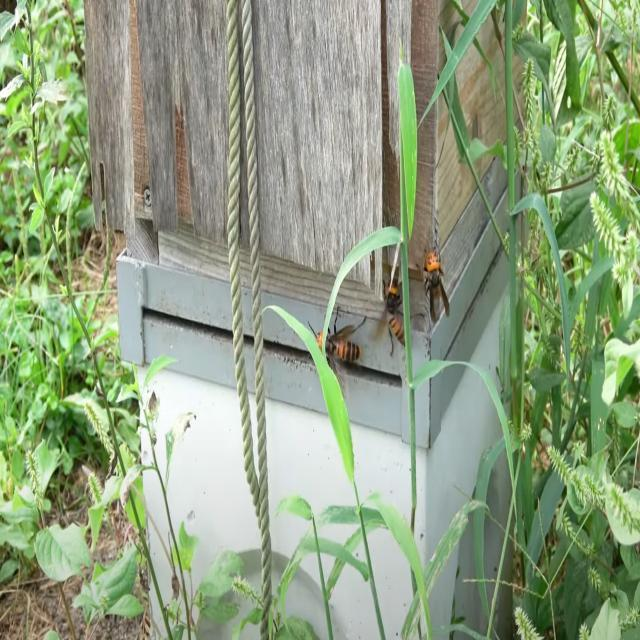Wasp: (300, 312, 366, 364), (419, 242, 453, 322), (379, 263, 405, 352)
